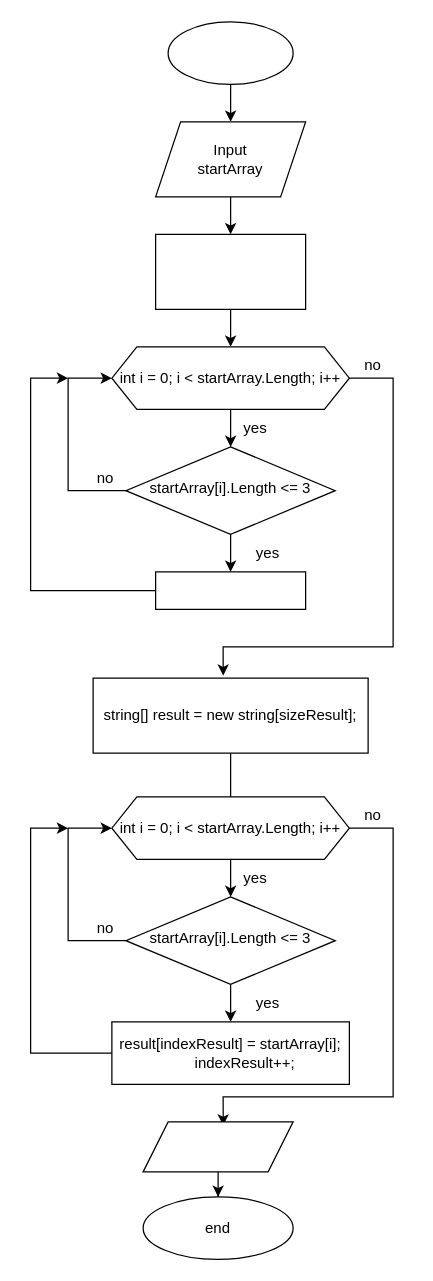
This 433x1281 diagram has some shape labels left out. The shapes that lost their labels are listed below. From the top down, each one's centre as x and y in pixels, then its label:
pixel 230 52: Start
pixel 230 271: sizeResult = 0; int indexResult = 0;
pixel 230 590: sizeResult++;
pixel 217 1146: resultArray
